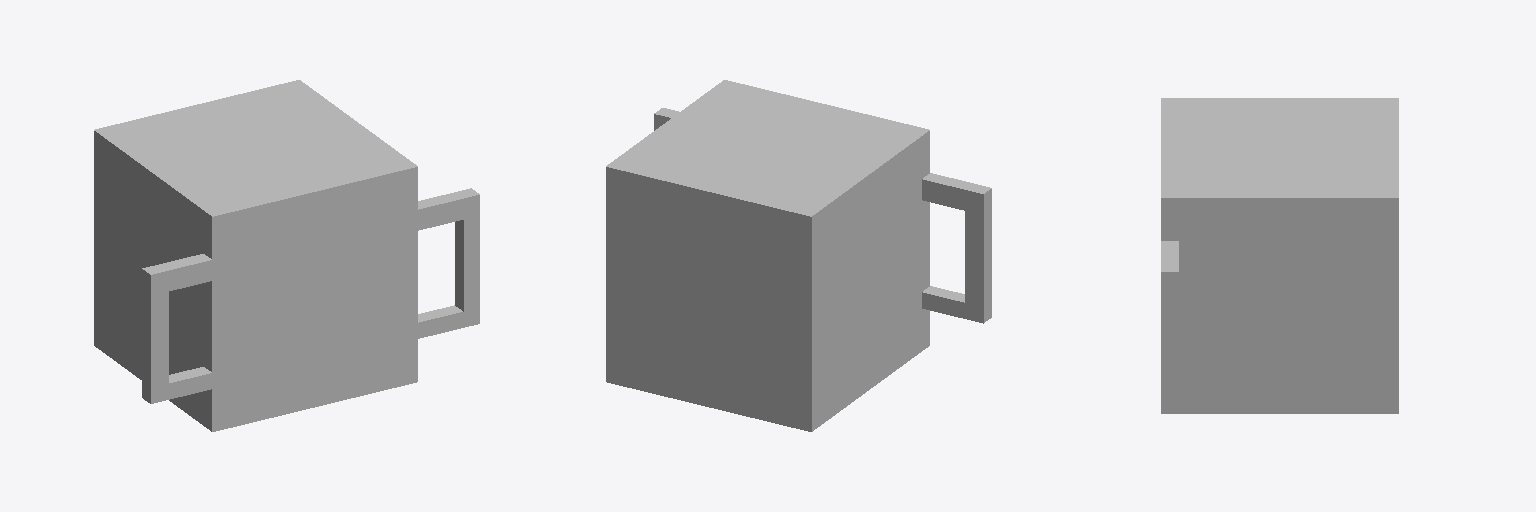
File: handles.obj
3 views of the same model, side by side, from view 1: azimuth 30°, elevation 25°; view 2: azimuth 150°, elevation 25°; view 3: azimuth 270°, elevation 25° (orthographic).
Parts seen in each view (by area): view 1: Handles; view 2: Handles; view 3: Handles.
Part boxes in pixels (bbox=[...]): Handles: bbox=[94, 80, 479, 431]; Handles: bbox=[606, 80, 991, 431]; Handles: bbox=[1161, 98, 1398, 413].
Size of the model in its own units: 0.3192 by 0.1994 by 0.1994.